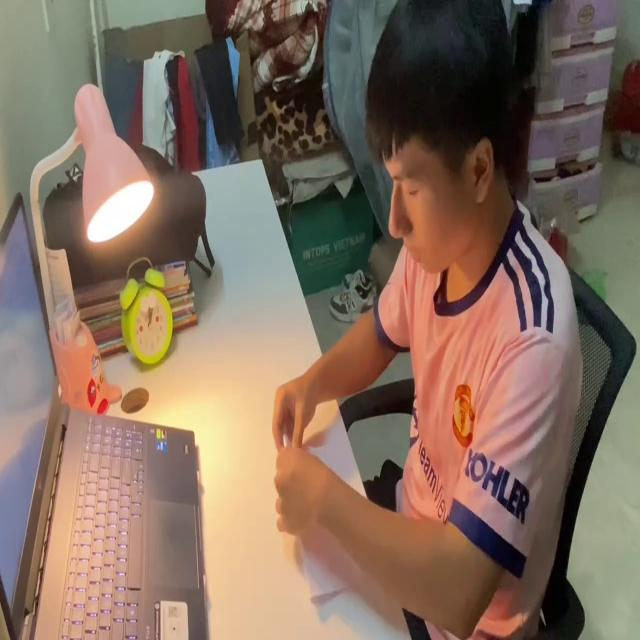book: (282, 412, 371, 606)
laptop: (0, 191, 213, 640)
student: (272, 1, 584, 640)
